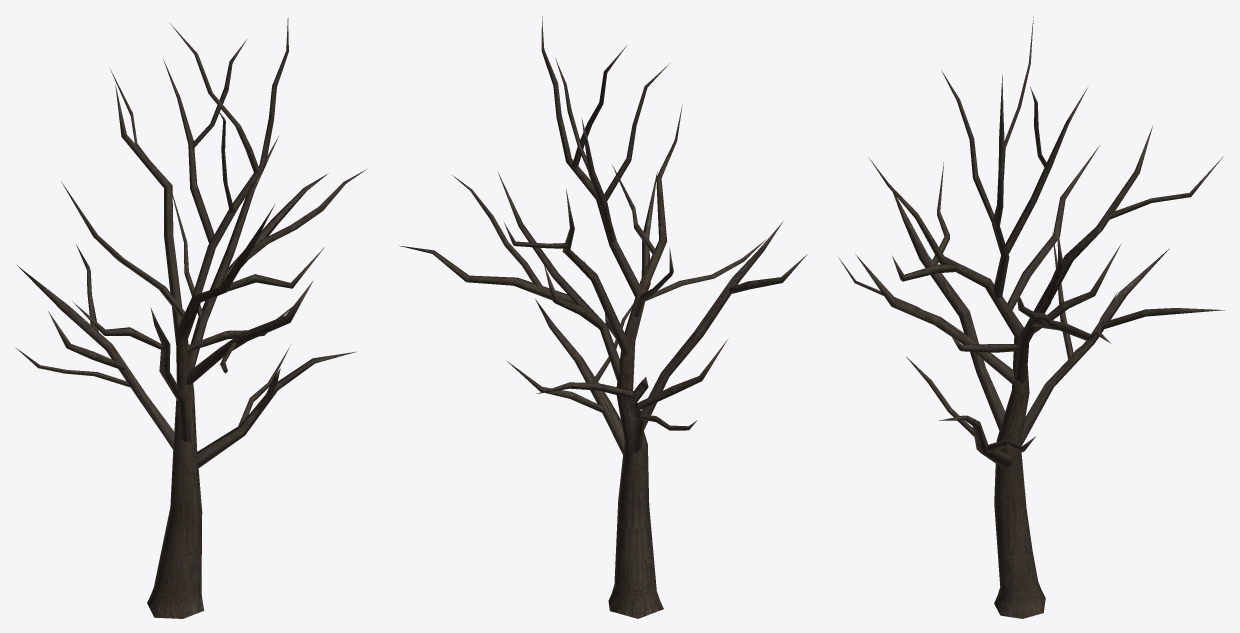
The model's file is Tree05_trunk.FBX.
3 renders of one model, left to right at view 1: azimuth 30°, elevation 25°; view 2: azimuth 150°, elevation 25°; view 3: azimuth 270°, elevation 25°, orthographic. The views are drawn at different scales.
Visible parts, largest first — view 1: Tree05_trunk; view 2: Tree05_trunk; view 3: Tree05_trunk.
Boxes of the visible parts, x1,y1,x2,y2 form: Tree05_trunk: [15, 18, 366, 618]; Tree05_trunk: [399, 16, 807, 618]; Tree05_trunk: [838, 16, 1224, 618].
Bounding box in the file's own units: 464 × 760 × 452.
Materials: 1 (1 with a texture image).
